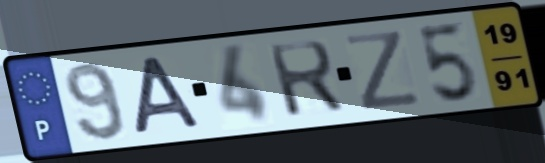4: (215, 39, 275, 130)
5: (414, 19, 480, 105)
9: (60, 59, 129, 143)
A: (132, 53, 206, 138)
R: (264, 38, 349, 121)
Z: (341, 28, 426, 114)
